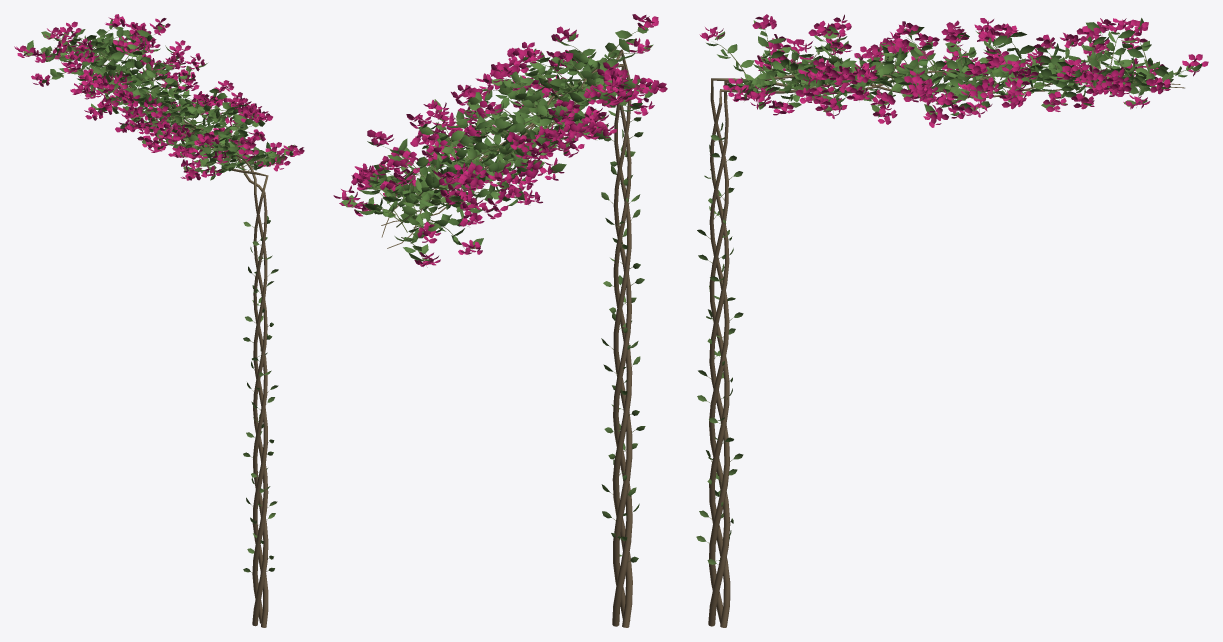
File: bougainvillea-glabra.glb
3 renders of one model, left to right at view 1: azimuth 30°, elevation 25°; view 2: azimuth 150°, elevation 25°; view 3: azimuth 270°, elevation 25°, orthographic. The views are drawn at different scales.
Visible parts, largest first — view 1: bougainvillea-glabra; view 2: bougainvillea-glabra; view 3: bougainvillea-glabra.
Part boxes in pixels (x1,y1,x2,y2): bougainvillea-glabra: [14, 14, 304, 627]; bougainvillea-glabra: [333, 14, 667, 627]; bougainvillea-glabra: [696, 14, 1208, 627].
Bounding box in the file's own units: 0.7372 × 2.94 × 2.31.
